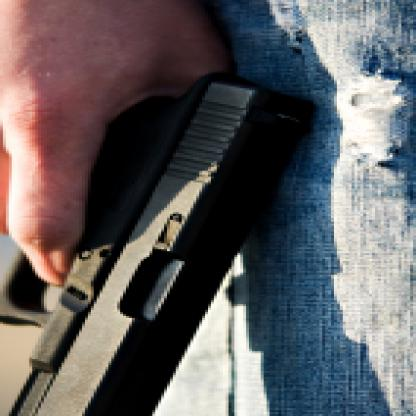gun: (0, 55, 323, 415)
